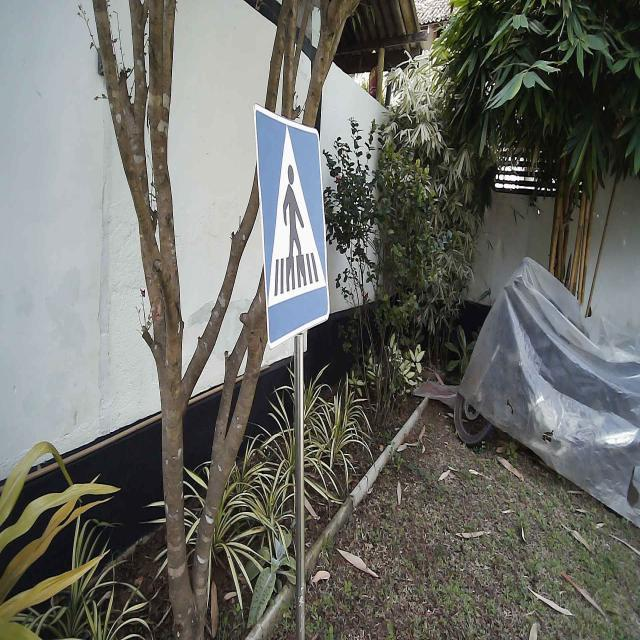crosswalk_sign: (252, 103, 332, 351)
